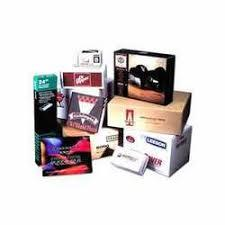Cardboard: (29, 38, 207, 189)
